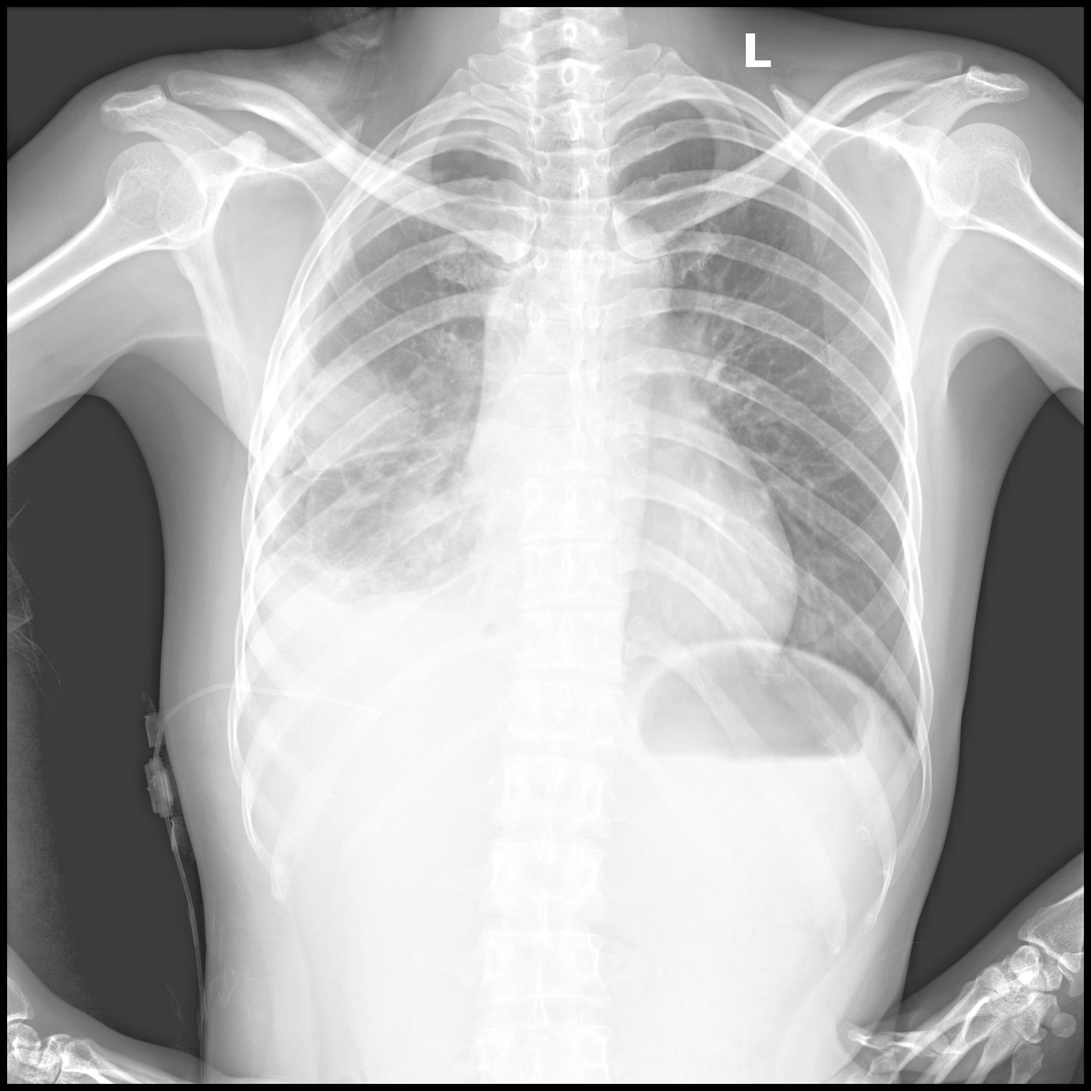Pleural thickening: (295, 109, 504, 325)
